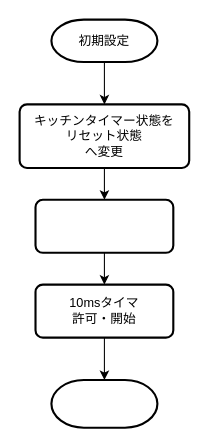
Some shapes in this 208 by 446 pixel diagram are drawn without their labels. The shapes that lost their labels are listed below. From the top down, each one's box as (x1, y1, x2, y2) in pixels, then its label:
(34, 198, 174, 253): IOC割込み 許可
(50, 378, 158, 428): end
